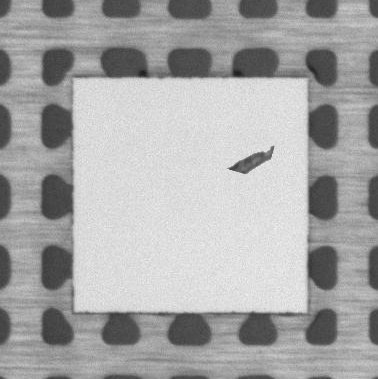DIE_INK: (224, 143, 275, 176)
